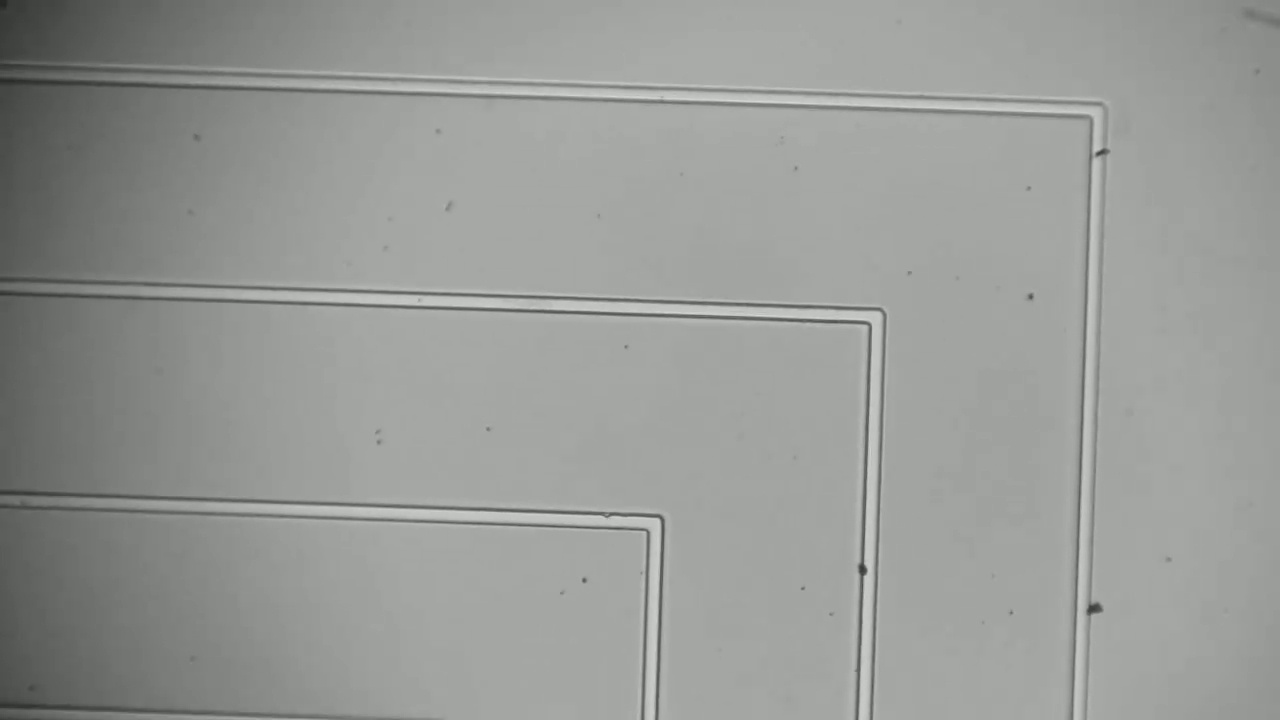edge_bite: (595, 507, 615, 534)
stains_enbedded: (848, 553, 883, 588), (1086, 134, 1119, 164)
